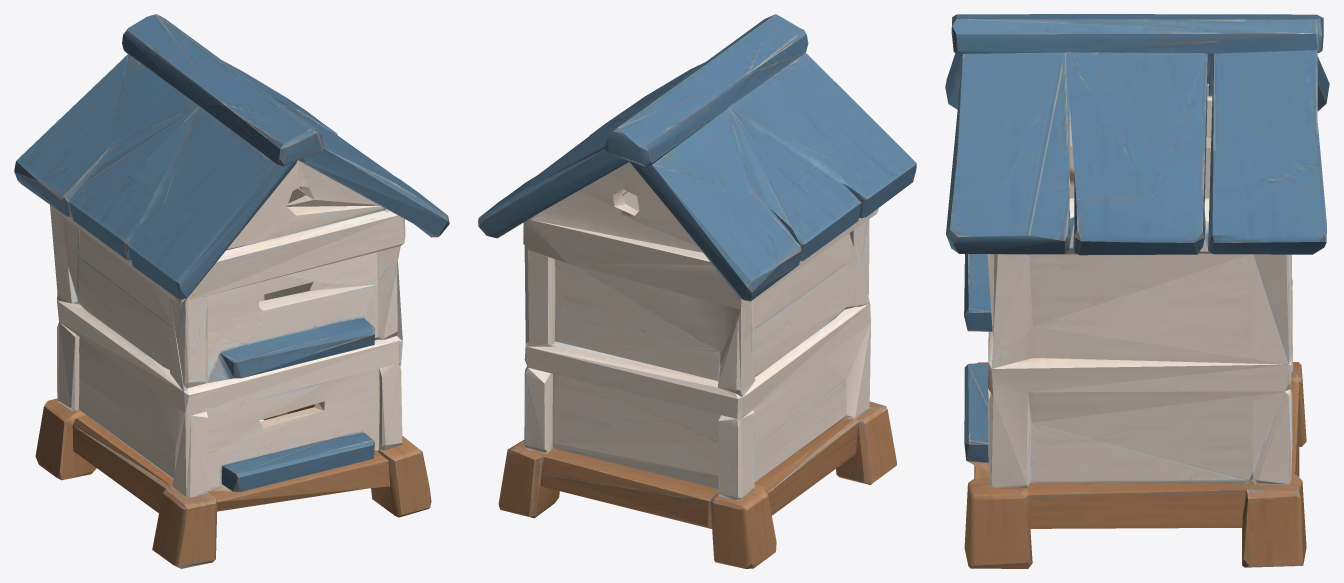
The model's file is farm-beehive.glb.
3 views of the same model, side by side, from view 1: azimuth 30°, elevation 25°; view 2: azimuth 150°, elevation 25°; view 3: azimuth 270°, elevation 25° (orthographic). The views are drawn at different scales.
Parts seen in each view (by area): view 1: farm-beehive-fit; view 2: farm-beehive-fit; view 3: farm-beehive-fit.
Boxes of the visible parts, box(x1,y1,x2,y2) form: farm-beehive-fit: box(14, 14, 449, 568); farm-beehive-fit: box(478, 14, 916, 568); farm-beehive-fit: box(945, 14, 1329, 568).
Bounding box in the file's own units: 0.6273 × 0.9 × 0.652.
1 material, 1 textured.
